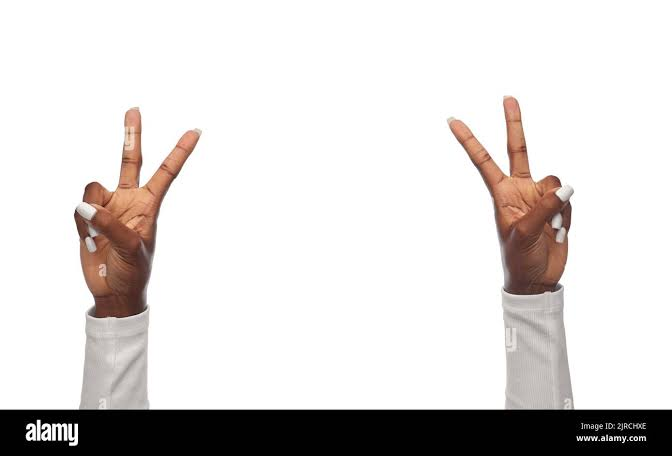peace_sign: (444, 83, 587, 268), (71, 105, 200, 307)
